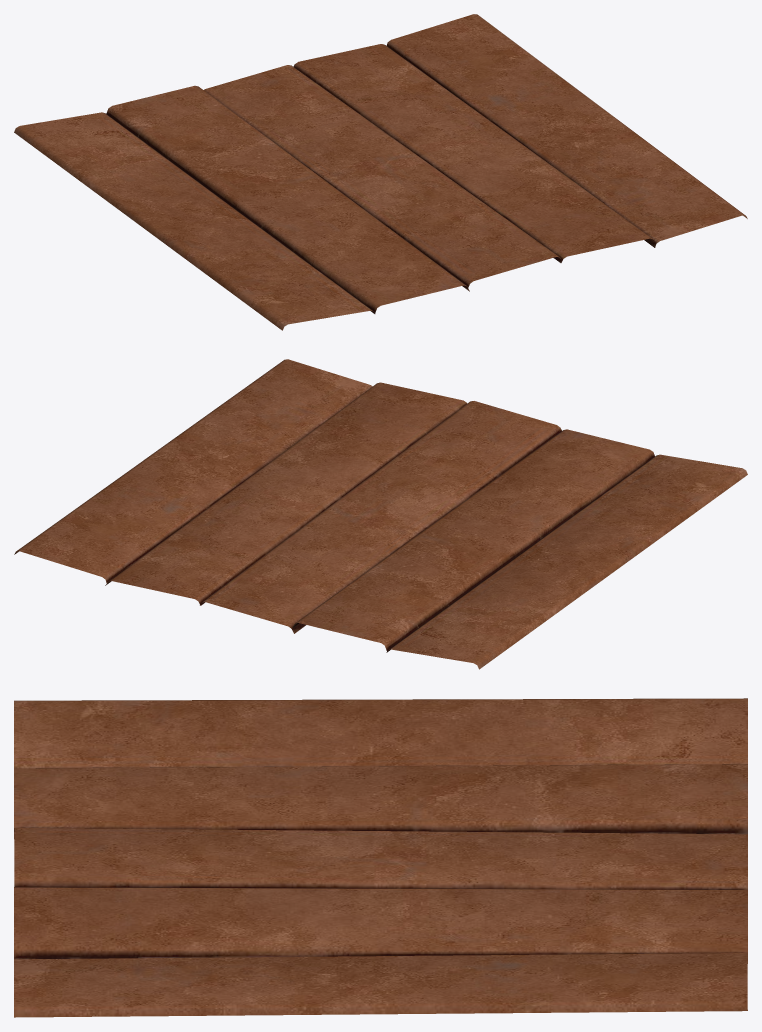
Rendered from ceiling_600_600_01.glb.
The picture shows the model from 3 angles, top to bottom: view 1: azimuth 30°, elevation 25°; view 2: azimuth 150°, elevation 25°; view 3: azimuth 270°, elevation 25°; orthographic projection. The views are drawn at different scales.
Visible parts, largest first — view 1: ceiling_600_600_01; view 2: ceiling_600_600_01; view 3: ceiling_600_600_01.
Boxes of the visible parts, bbox=[...] form: ceiling_600_600_01: bbox=[14, 14, 747, 330]; ceiling_600_600_01: bbox=[14, 359, 747, 669]; ceiling_600_600_01: bbox=[14, 698, 747, 1017].
Bounding box in the file's own units: 6 × 0.1994 × 6.
1 material, 1 textured.
